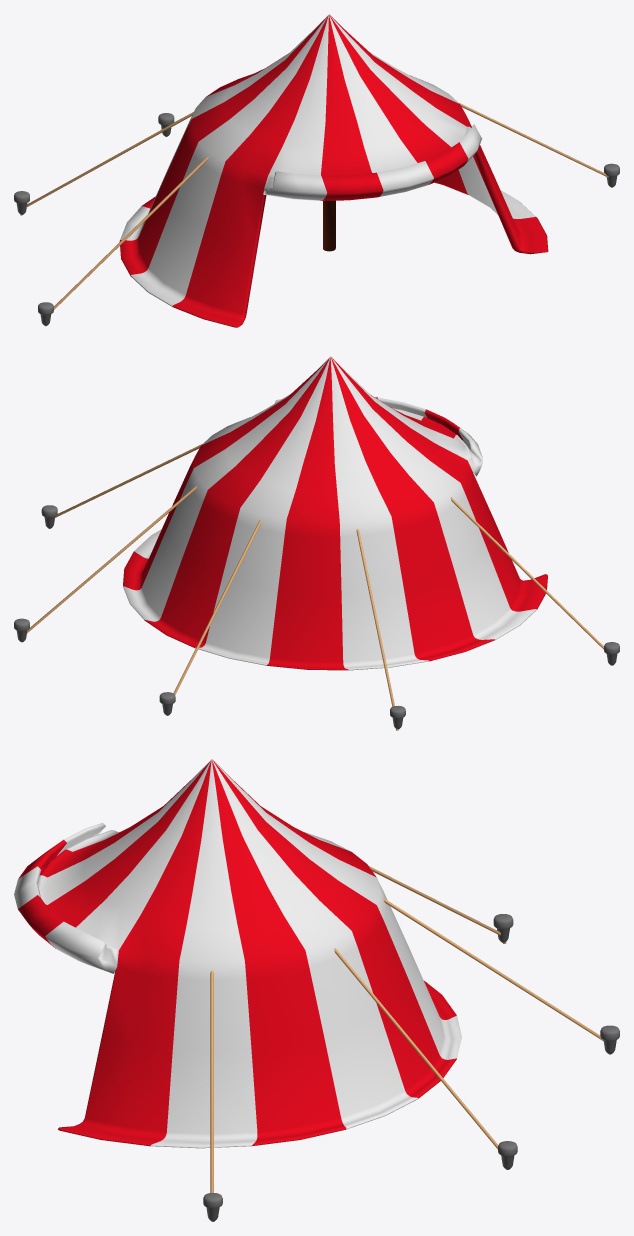
File: cadirsirk.fbx
3 views of the same model, one above another, from view 1: azimuth 30°, elevation 25°; view 2: azimuth 150°, elevation 25°; view 3: azimuth 270°, elevation 25° (orthographic). The views are drawn at different scales.
Visible parts, largest first — view 1: Circle.006; view 2: Circle.006; view 3: Circle.006.
Boxes of the visible parts, x1,y1,x2,y2 form: Circle.006: [14, 14, 619, 327]; Circle.006: [14, 356, 619, 730]; Circle.006: [14, 759, 619, 1221].
Bounding box in the file's own units: 10249 × 4136 × 7626.
